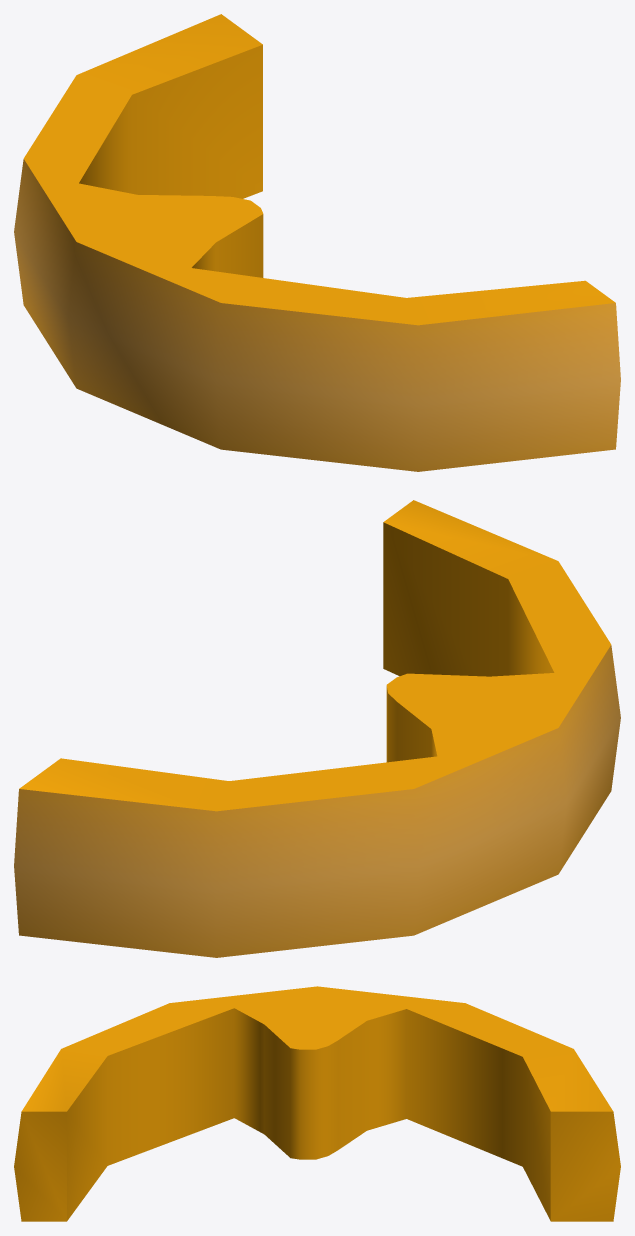
The model's file is Hot_peper_yelow_slice_half.fbx.
3 views of the same model, one above another, from view 1: azimuth 30°, elevation 25°; view 2: azimuth 150°, elevation 25°; view 3: azimuth 270°, elevation 25° (orthographic). The views are drawn at different scales.
Visible parts, largest first — view 1: Hot_peper_yelow_slice_half; view 2: Hot_peper_yelow_slice_half; view 3: Hot_peper_yelow_slice_half.
Part boxes in pixels (x1,y1,x2,y2): Hot_peper_yelow_slice_half: (14, 14, 620, 471); Hot_peper_yelow_slice_half: (14, 500, 620, 957); Hot_peper_yelow_slice_half: (14, 986, 620, 1221).
Bounding box in the file's own units: 18.4 × 36.8 × 7.36.
